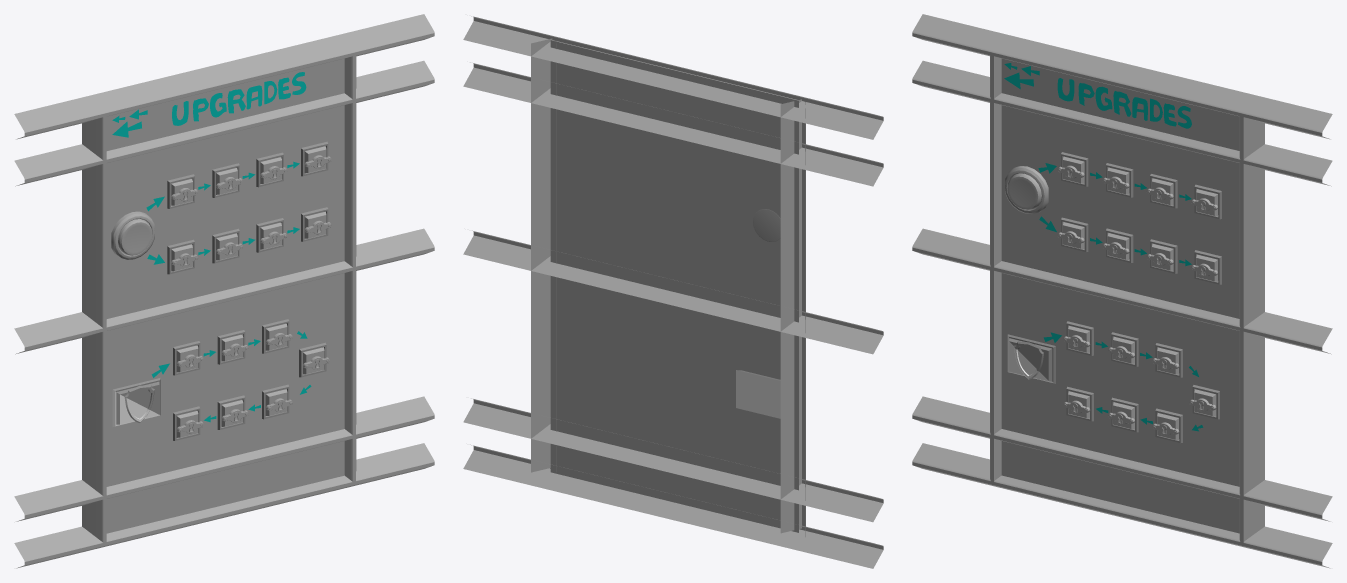
The model's file is mesh_upgradescreen_new.fbx.
3 views of the same model, side by side, from view 1: azimuth 30°, elevation 25°; view 2: azimuth 150°, elevation 25°; view 3: azimuth 330°, elevation 25° (orthographic).
Visible parts, largest first — view 1: mesh_upgradescreen_backround, mesh_upgradescreen_border5, mesh_upgradescreen_border, mesh_upgradescreen_border6, mesh_upgradescreen_border4, mesh_upgradescreen_border2, mesh_upgradescreen_border3, mesh_upgradescreen_border1, mesh_upgradescreen_buttonborder1, mesh_upgradescreen_buttonborder2, mesh_upgradescreen_text, mesh_upgradescreen_slow (+1 smaller); view 2: mesh_upgradescreen_backround, mesh_upgradescreen_border5, mesh_upgradescreen_border6, mesh_upgradescreen_border, mesh_upgradescreen_border1, mesh_upgradescreen_border4, mesh_upgradescreen_border3, mesh_upgradescreen_border2, mesh_upgradescreen_shield, mesh_upgradescreen_slow; view 3: mesh_upgradescreen_backround, mesh_upgradescreen_border5, mesh_upgradescreen_border1, mesh_upgradescreen_border6, mesh_upgradescreen_border3, mesh_upgradescreen_border2, mesh_upgradescreen_border4, mesh_upgradescreen_border, mesh_upgradescreen_buttonborder1, mesh_upgradescreen_buttonborder2, mesh_upgradescreen_text, mesh_upgradescreen_slow (+1 smaller).
Part boxes in pixels (bbox=[...]): mesh_upgradescreen_backround: bbox=[106, 58, 344, 533]; mesh_upgradescreen_border5: bbox=[14, 14, 434, 139]; mesh_upgradescreen_border: bbox=[82, 114, 106, 544]; mesh_upgradescreen_border6: bbox=[14, 443, 434, 568]; mesh_upgradescreen_border4: bbox=[14, 396, 434, 521]; mesh_upgradescreen_border2: bbox=[14, 228, 434, 354]; mesh_upgradescreen_border3: bbox=[14, 60, 434, 186]; mesh_upgradescreen_border1: bbox=[344, 54, 356, 483]; mesh_upgradescreen_buttonborder1: bbox=[167, 141, 328, 274]; mesh_upgradescreen_buttonborder2: bbox=[173, 319, 326, 440]; mesh_upgradescreen_text: bbox=[172, 72, 306, 125]; mesh_upgradescreen_slow: bbox=[111, 211, 154, 259]; mesh_upgradescreen_backround: bbox=[550, 40, 798, 532]; mesh_upgradescreen_border5: bbox=[463, 16, 883, 139]; mesh_upgradescreen_border6: bbox=[463, 444, 883, 568]; mesh_upgradescreen_border: bbox=[780, 99, 805, 536]; mesh_upgradescreen_border1: bbox=[531, 38, 556, 472]; mesh_upgradescreen_border4: bbox=[463, 398, 883, 522]; mesh_upgradescreen_border3: bbox=[463, 62, 883, 186]; mesh_upgradescreen_border2: bbox=[463, 230, 883, 354]; mesh_upgradescreen_shield: bbox=[736, 370, 780, 418]; mesh_upgradescreen_slow: bbox=[753, 209, 780, 241]; mesh_upgradescreen_backround: bbox=[1001, 58, 1239, 533]; mesh_upgradescreen_border5: bbox=[912, 14, 1332, 139]; mesh_upgradescreen_border1: bbox=[1239, 115, 1264, 544]; mesh_upgradescreen_border6: bbox=[912, 443, 1332, 568]; mesh_upgradescreen_border3: bbox=[912, 60, 1332, 186]; mesh_upgradescreen_border2: bbox=[912, 228, 1332, 354]; mesh_upgradescreen_border4: bbox=[912, 396, 1332, 521]; mesh_upgradescreen_border: bbox=[990, 54, 1001, 483]; mesh_upgradescreen_buttonborder1: bbox=[1061, 152, 1221, 284]; mesh_upgradescreen_buttonborder2: bbox=[1066, 321, 1219, 442]; mesh_upgradescreen_text: bbox=[1057, 78, 1191, 128]; mesh_upgradescreen_slow: bbox=[1005, 166, 1048, 214].
Bounding box in the file's own units: 0.4601 × 0.4878 × 0.0243.
